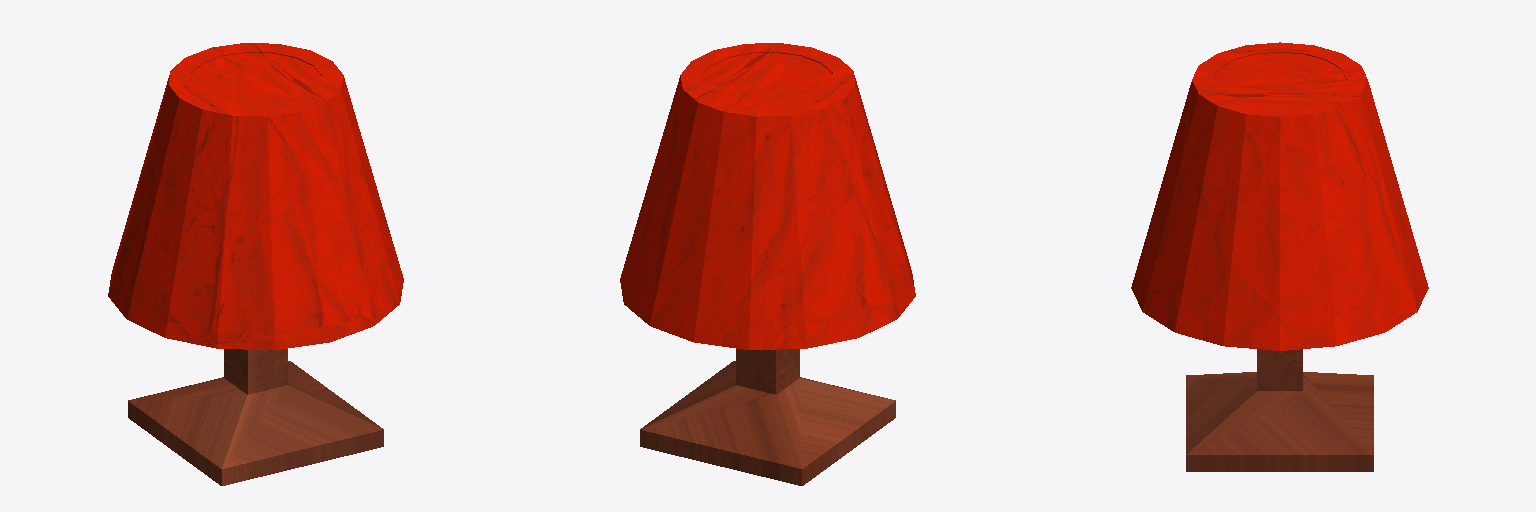
3 views of the same model, side by side, from view 1: azimuth 30°, elevation 25°; view 2: azimuth 150°, elevation 25°; view 3: azimuth 270°, elevation 25° (orthographic).
Visible parts, largest first — view 1: table_lamp, table_lamp_stand; view 2: table_lamp, table_lamp_stand; view 3: table_lamp, table_lamp_stand.
Part boxes in pixels (left/top/right/bottom): table_lamp: left=108, top=43, right=403, bottom=349; table_lamp_stand: left=128, top=349, right=383, bottom=485; table_lamp: left=620, top=43, right=915, bottom=349; table_lamp_stand: left=640, top=349, right=895, bottom=485; table_lamp: left=1131, top=42, right=1428, bottom=350; table_lamp_stand: left=1186, top=349, right=1373, bottom=471.
Size of the model in its own units: 9.62 by 12.52 by 9.58.
2 materials, 2 textured.